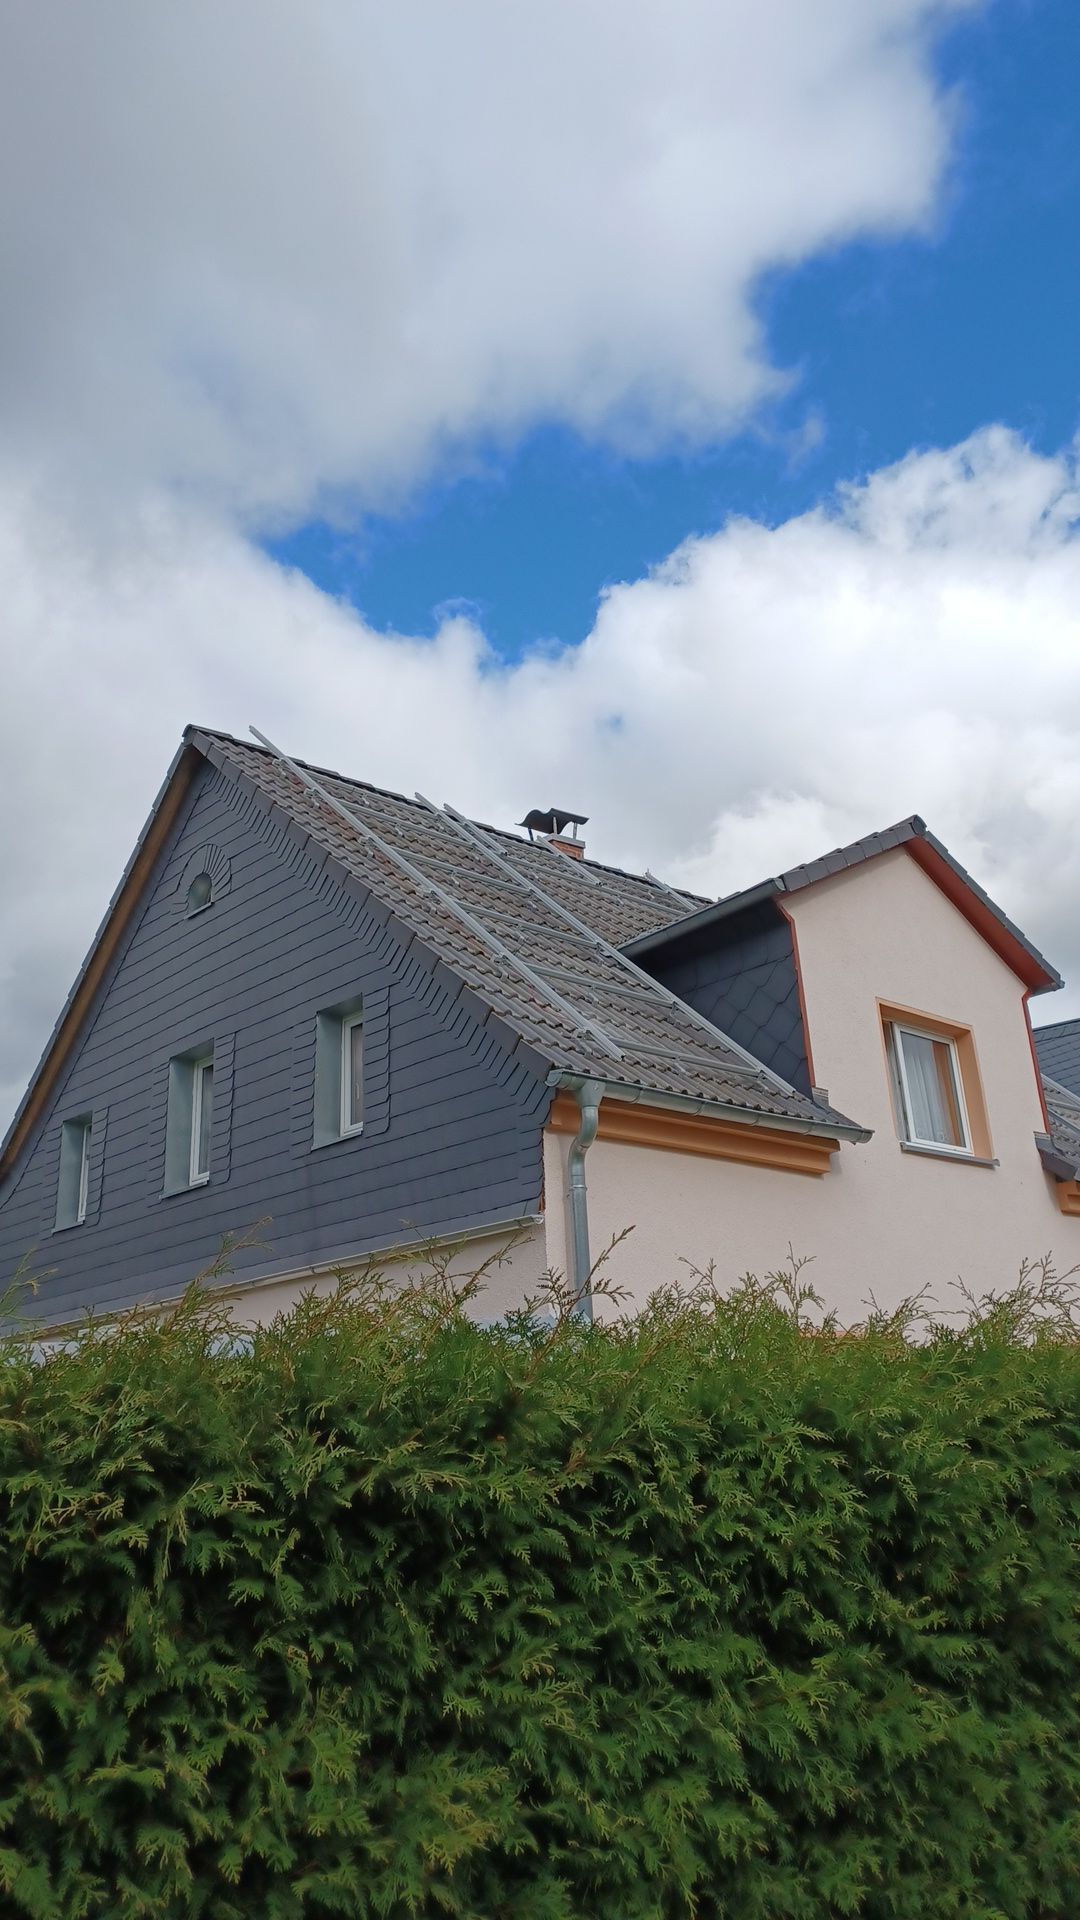hook: (580, 1033, 592, 1059), (756, 1073, 769, 1097), (673, 1055, 684, 1077), (498, 959, 509, 982), (588, 984, 599, 1007), (426, 894, 436, 916), (669, 1006, 679, 1027), (364, 840, 375, 858), (514, 923, 524, 943), (593, 947, 603, 967), (311, 790, 319, 811), (450, 870, 459, 887), (527, 894, 537, 911), (530, 866, 539, 882), (278, 762, 286, 778), (361, 791, 369, 807), (396, 822, 404, 837), (436, 818, 444, 833), (617, 891, 624, 909), (647, 887, 654, 901)
